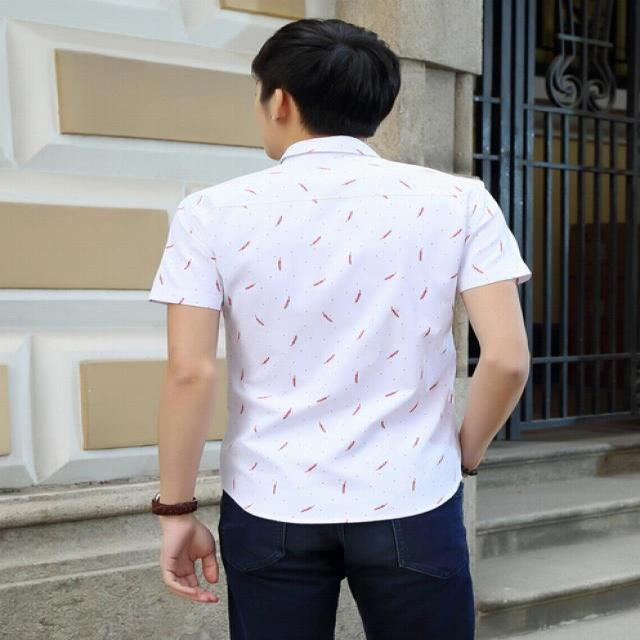short sleeve top: (150, 145, 533, 524)
trousers: (221, 458, 473, 639)
